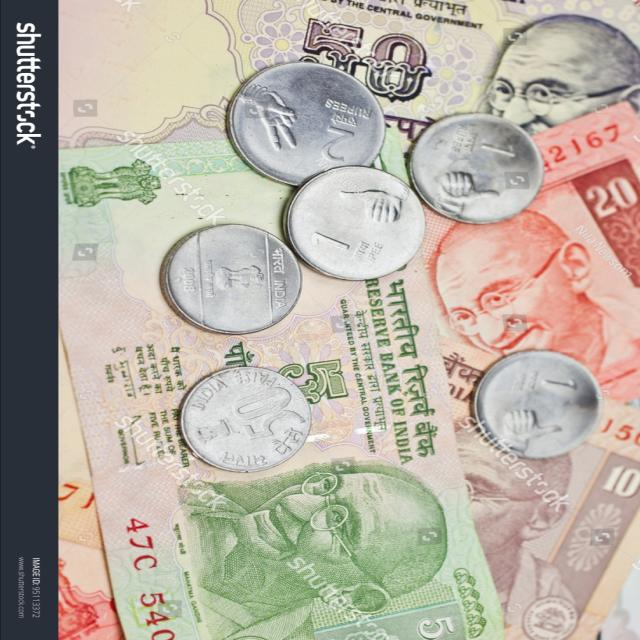5IndianRupees: (70, 140, 462, 640)
